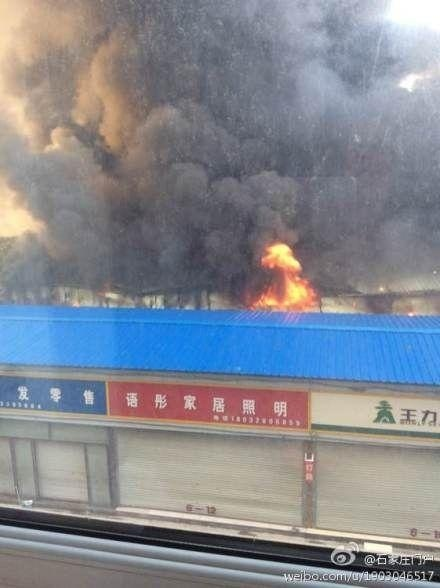fire: (248, 241, 317, 311)
